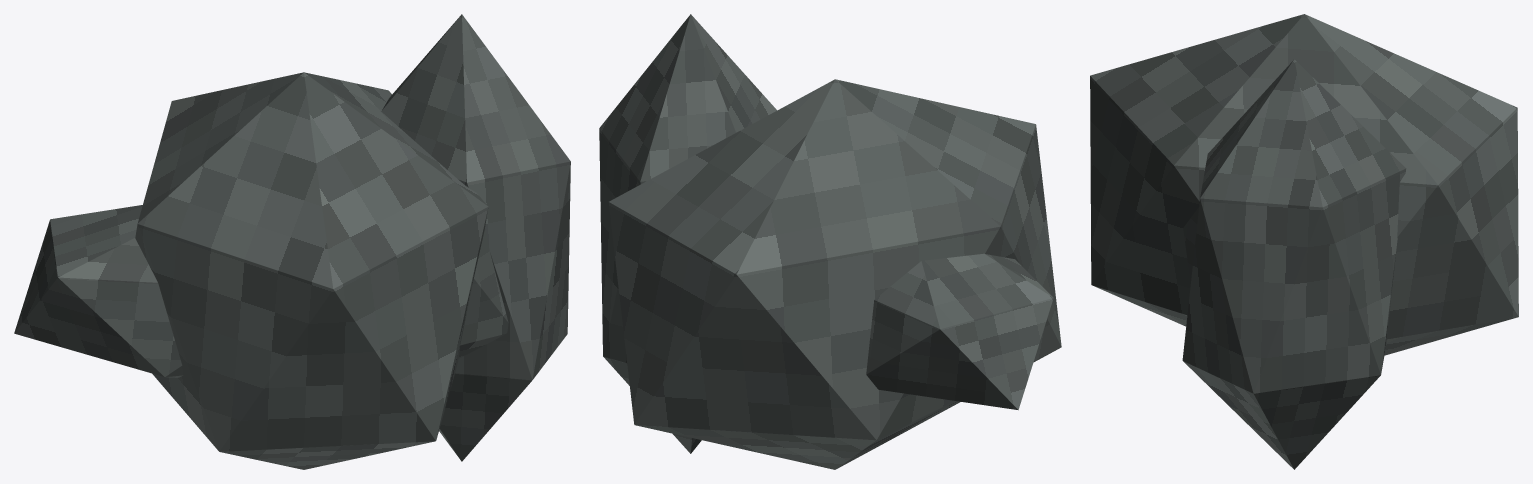
Rendered from ruin_25.glb.
The picture shows the model from 3 angles, left to right: view 1: azimuth 30°, elevation 25°; view 2: azimuth 150°, elevation 25°; view 3: azimuth 270°, elevation 25°; orthographic projection. The views are drawn at different scales.
Visible parts, largest first — view 1: WeatheredStone.001, WeatheredStone.003, WeatheredStone, WeatheredStone.002; view 2: WeatheredStone.001, WeatheredStone, WeatheredStone.003; view 3: WeatheredStone.001, WeatheredStone.003, WeatheredStone.002.
Boxes of the visible parts, x1,y1,x2,y2 form: WeatheredStone.001: (135,72,488,469); WeatheredStone.003: (381,14,570,461); WeatheredStone: (14,205,183,377); WeatheredStone.002: (458,229,508,358); WeatheredStone.001: (608,79,1061,469); WeatheredStone: (866,253,1053,410); WeatheredStone.003: (599,14,776,453); WeatheredStone.001: (1090,14,1518,355); WeatheredStone.003: (1182,59,1406,469); WeatheredStone.002: (1183,207,1198,283).
Bounding box in the file's own units: 2.8 × 2.53 × 2.39.
Materials: 1 (1 with a texture image).
